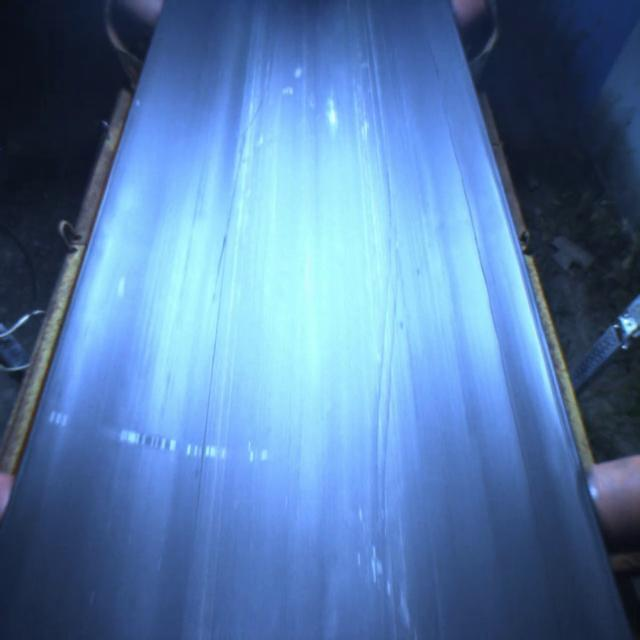Tear: (428, 102, 518, 423), (204, 122, 258, 296)
